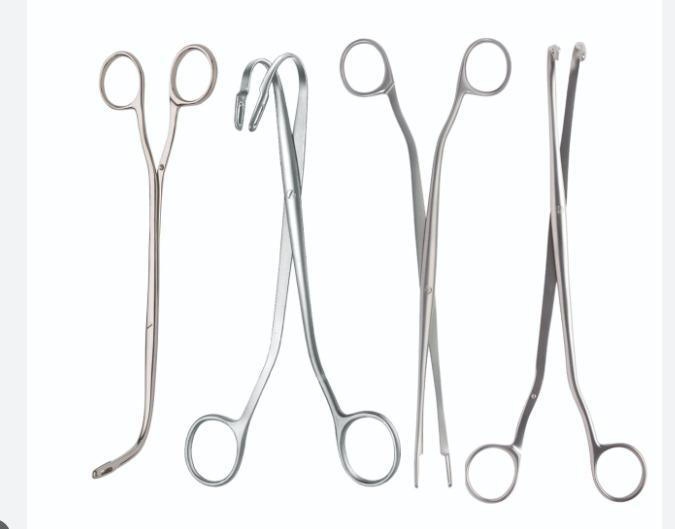Randall Forceps: (81, 39, 223, 493)
